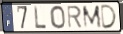7: (17, 5, 29, 30)
D: (100, 4, 118, 30)
L: (33, 4, 48, 30)
M: (81, 4, 103, 29)
O: (49, 5, 67, 30)
R: (66, 5, 83, 30)
